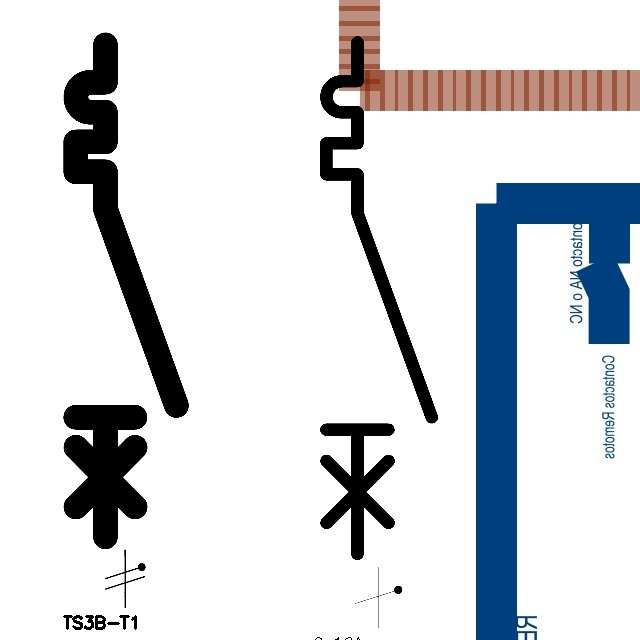interruptor_termomagnetico: (313, 29, 444, 567), (63, 32, 189, 549)
